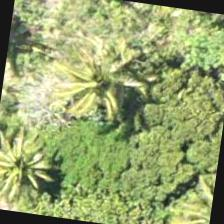Kelapa_Sawit: (54, 30, 156, 132), (0, 115, 70, 215)
